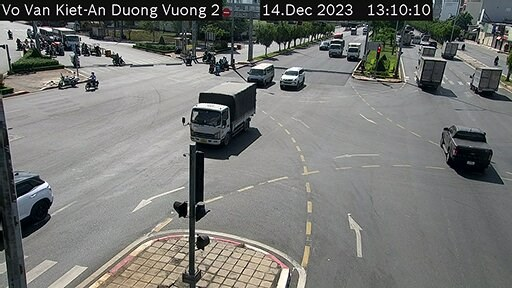car: (9, 166, 56, 232), (442, 125, 489, 171), (280, 64, 302, 89), (250, 61, 272, 85)
motorbike: (84, 70, 98, 89)
truck: (192, 75, 249, 150), (414, 57, 443, 87), (472, 62, 498, 95), (445, 37, 463, 62), (346, 40, 358, 62), (330, 38, 340, 57), (421, 45, 436, 56)
